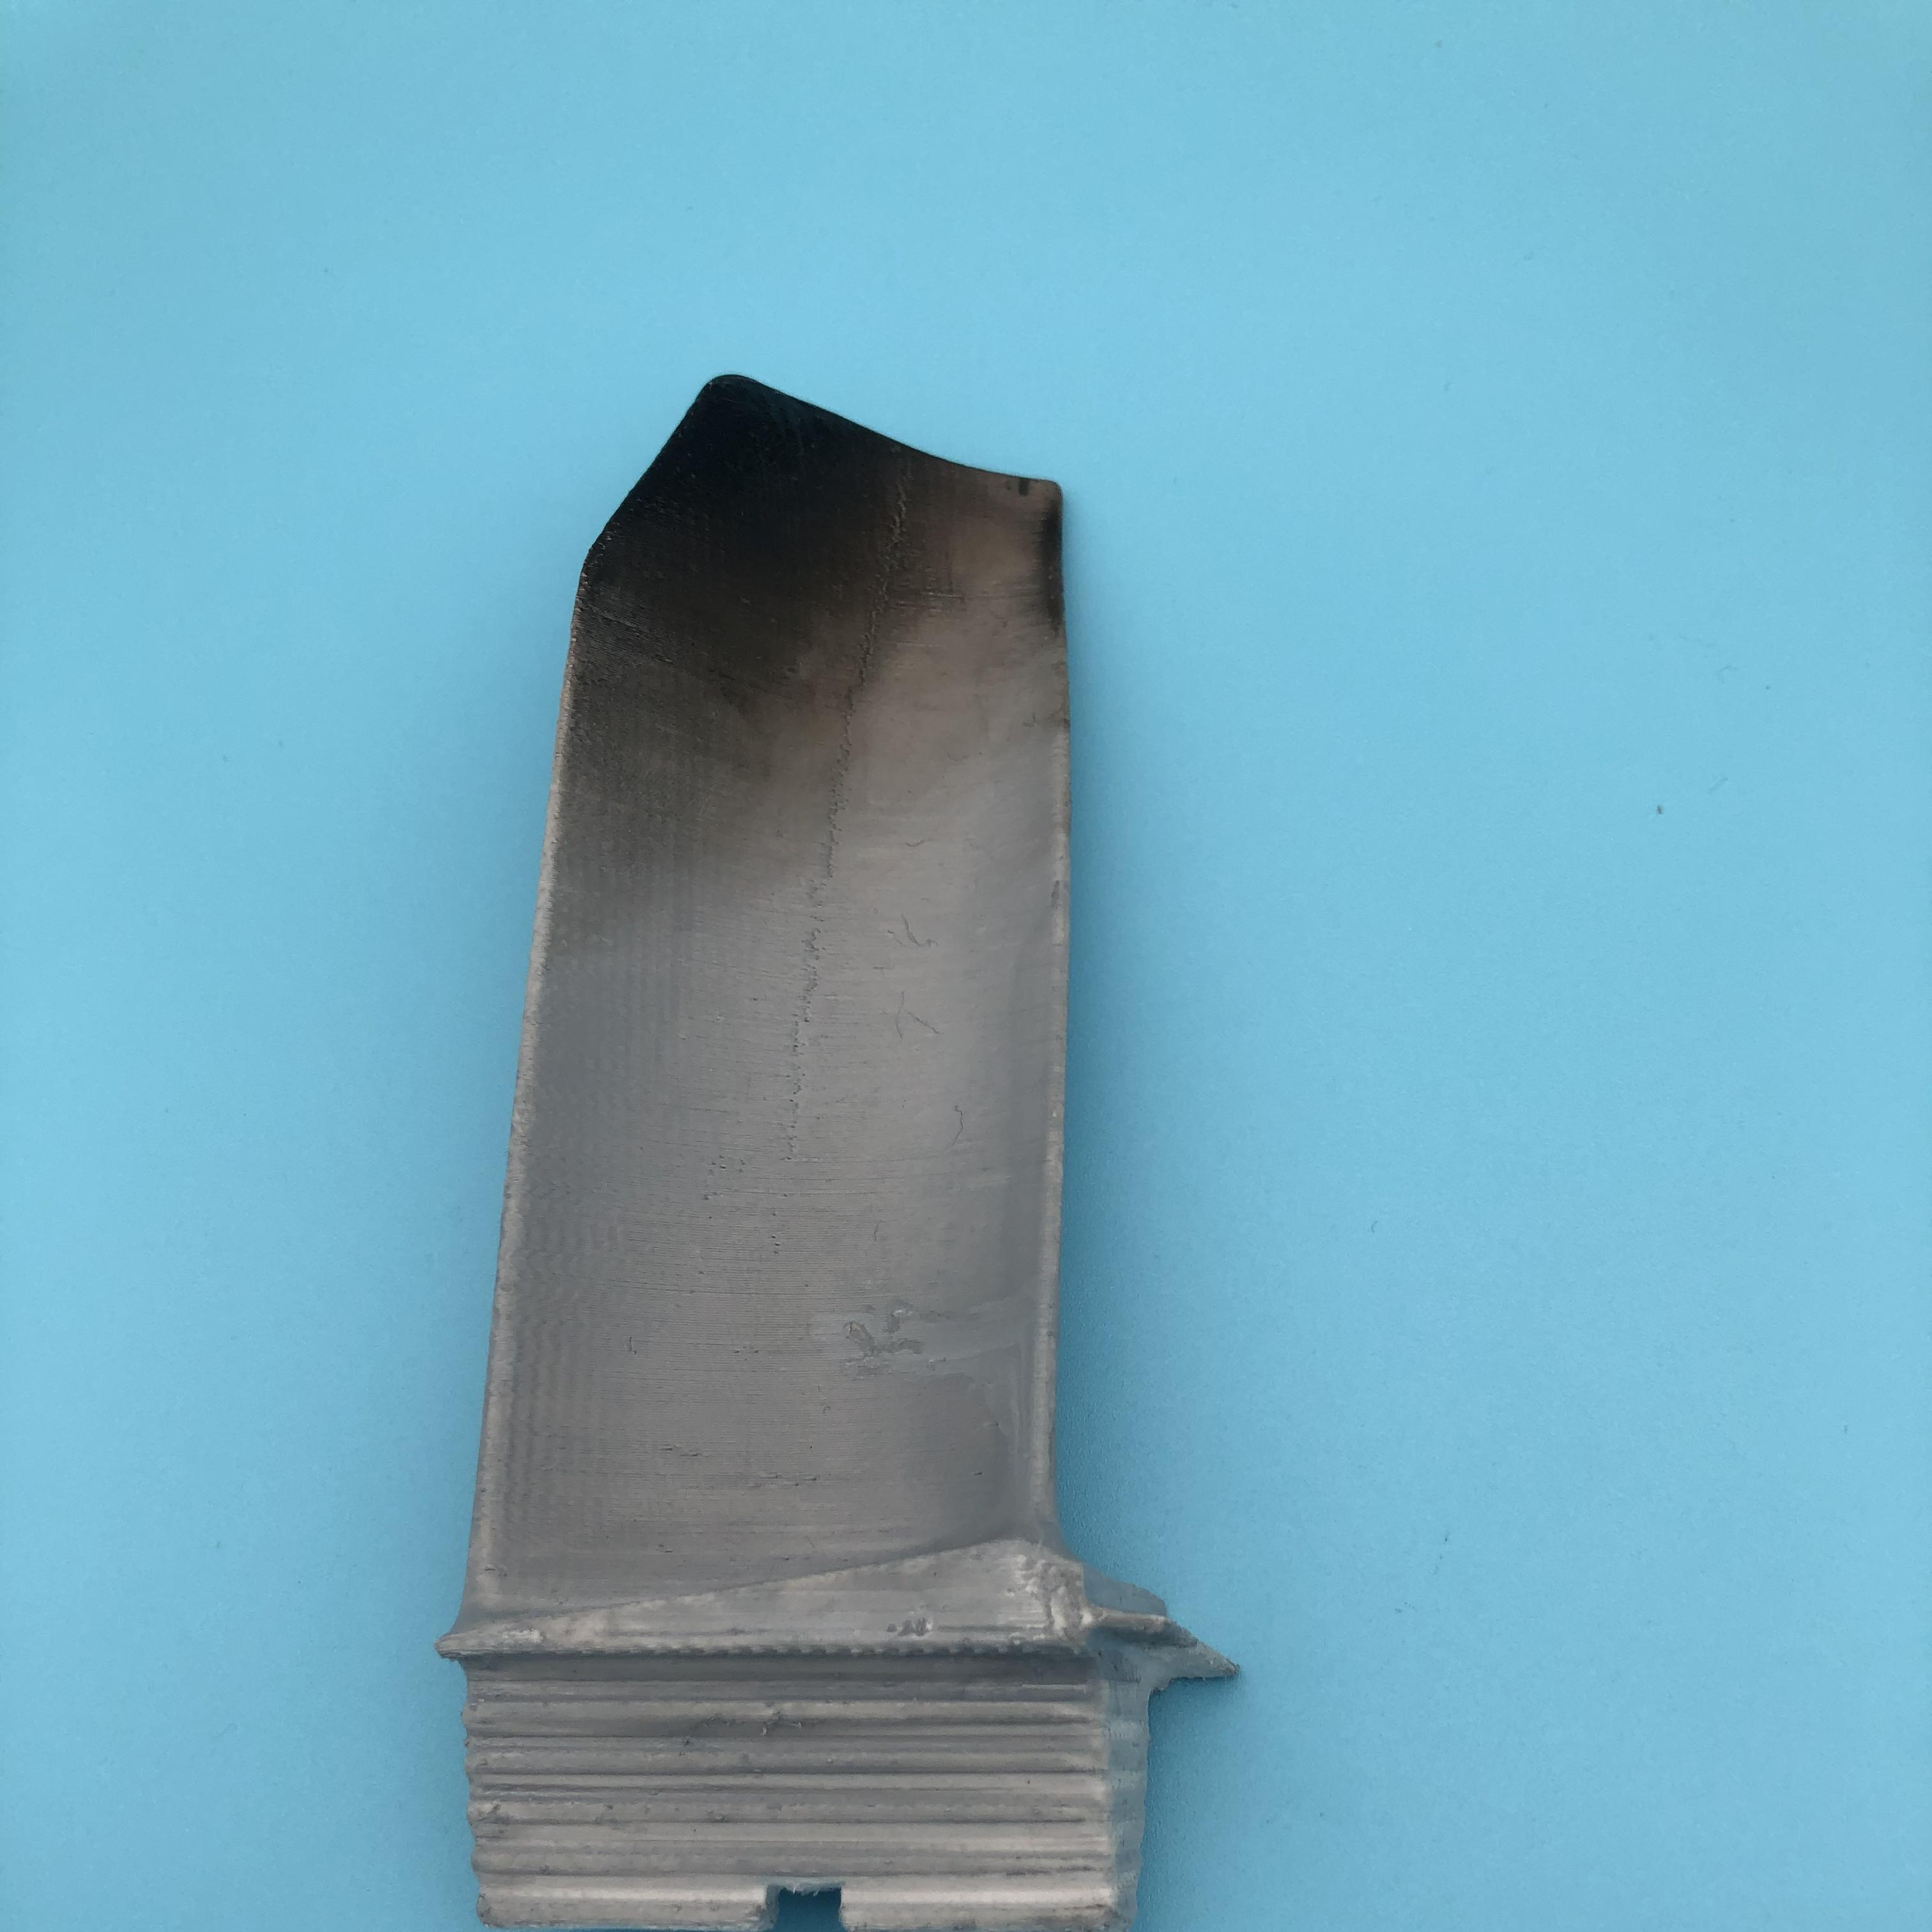ablation: (589, 409, 1039, 858)
